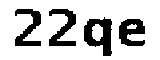2: (46, 5, 81, 53), (9, 6, 42, 51)
e: (118, 16, 149, 53)
q: (84, 17, 117, 60)
